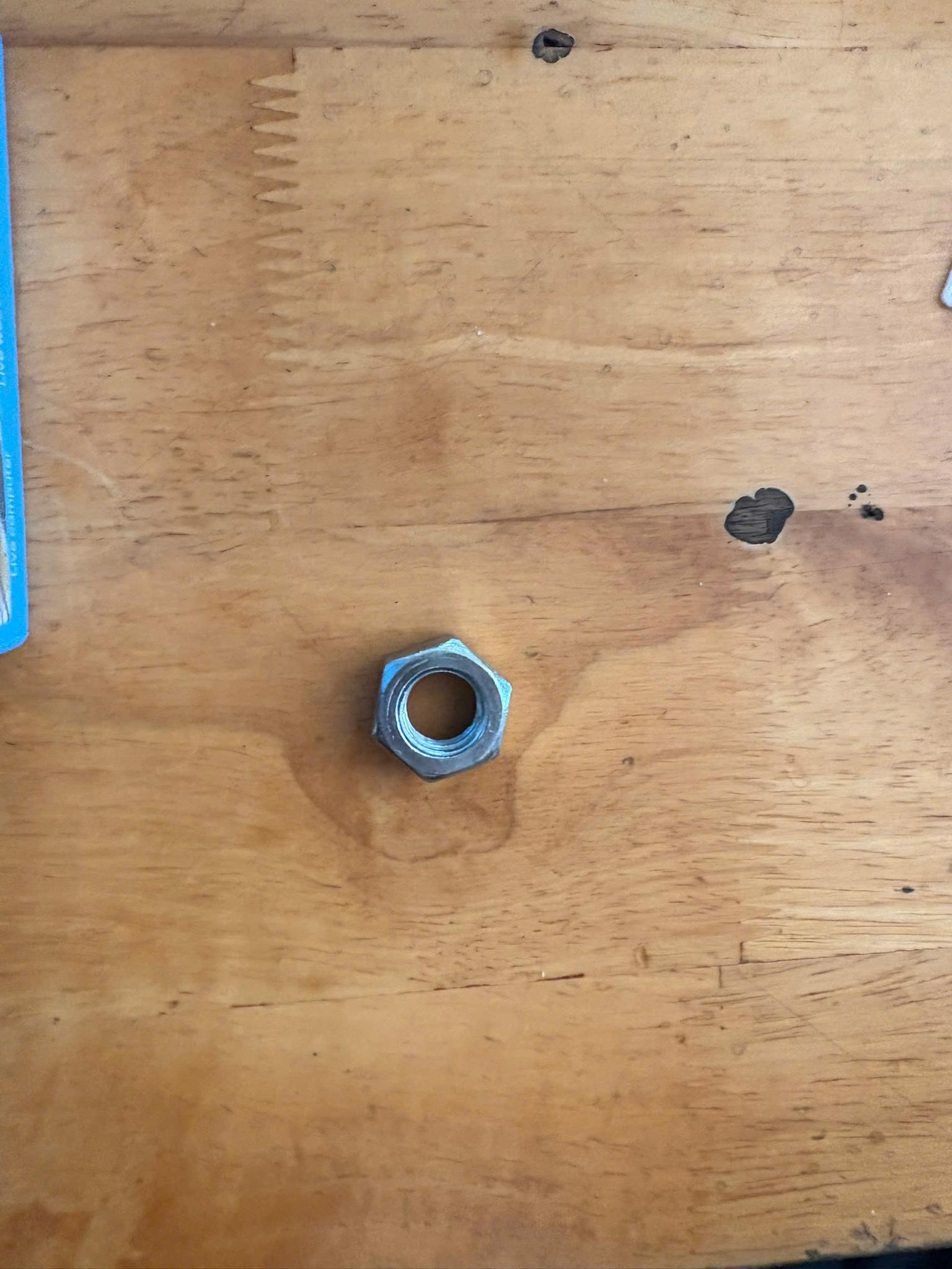nut: (362, 618, 532, 795)
